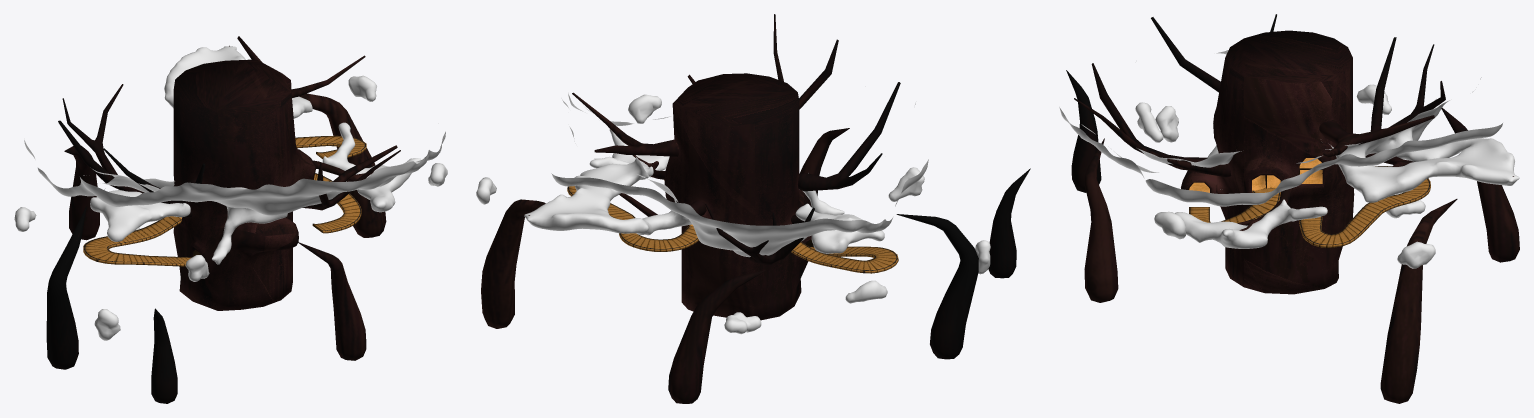
The model's file is DreamyYggdrasil (with Leaves).glb.
3 renders of one model, left to right at view 1: azimuth 30°, elevation 25°; view 2: azimuth 150°, elevation 25°; view 3: azimuth 270°, elevation 25°, orthographic. The views are drawn at different scales.
Visible parts, largest first — view 1: Trunk, Loose_branches, Canopy, Branches, Road, BG_Clouds.001, Bottom_Canopy_2, Bottom_Canopy_1; view 2: Trunk, Loose_branches, Canopy, Branches, Road, BG_Clouds.001, Bottom_Canopy_2, Bottom_Canopy_1; view 3: Trunk, Loose_branches, Canopy, Branches, Road, BG_Clouds.001, Bottom_Canopy_1.
Part boxes in pixels (<box>): Trunk: <box>171,59,316,310</box>; Loose_branches: <box>46,93,386,403</box>; Canopy: <box>24,46,445,264</box>; Branches: <box>58,36,400,217</box>; Road: <box>83,135,366,266</box>; BG_Clouds.001: <box>14,75,447,340</box>; Bottom_Canopy_2: <box>90,190,190,241</box>; Bottom_Canopy_1: <box>322,122,421,212</box>; Trunk: <box>664,73,811,320</box>; Loose_branches: <box>481,128,1030,403</box>; Canopy: <box>524,93,928,257</box>; Branches: <box>528,14,900,265</box>; Road: <box>567,179,898,273</box>; BG_Clouds.001: <box>476,94,990,334</box>; Bottom_Canopy_2: <box>795,203,884,253</box>; Bottom_Canopy_1: <box>589,129,669,179</box>; Trunk: <box>1181,30,1354,294</box>; Loose_branches: <box>1066,70,1519,403</box>; Canopy: <box>1059,50,1519,206</box>; Branches: <box>1074,14,1513,230</box>; Road: <box>1189,158,1430,247</box>; BG_Clouds.001: <box>1135,84,1435,268</box>; Bottom_Canopy_1: <box>1175,199,1327,248</box>.
Size of what is drawn, in the model's own units: 551 by 300 by 506.
Materials: 5 (5 with a texture image).
